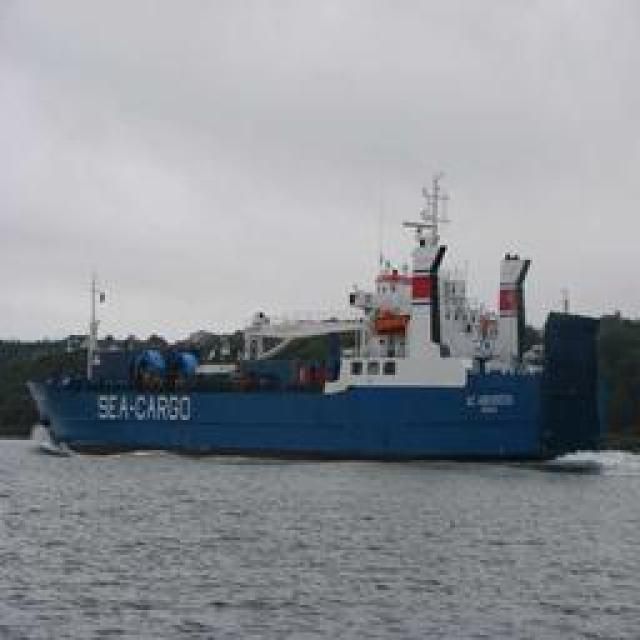CIV_Ship: (25, 176, 598, 459)
